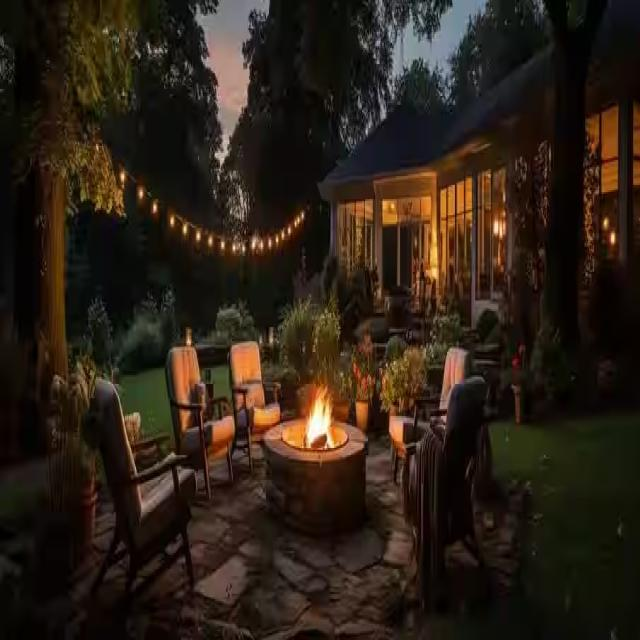fire: (306, 393, 332, 450)
